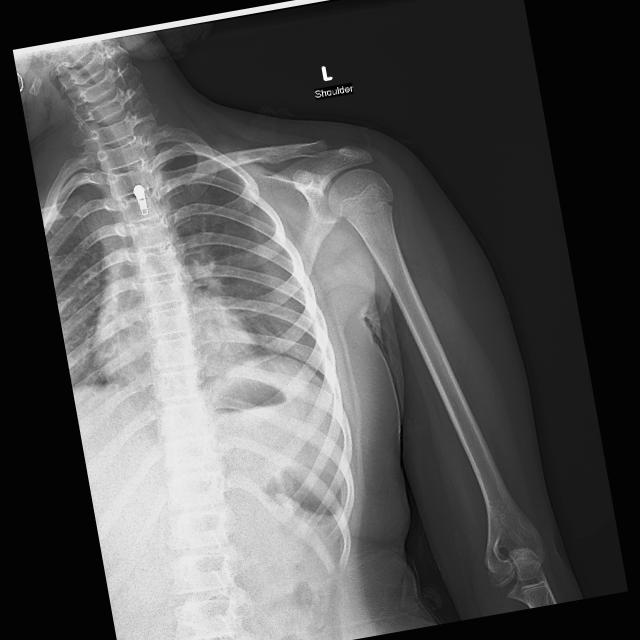fractured: (338, 185, 397, 225)
